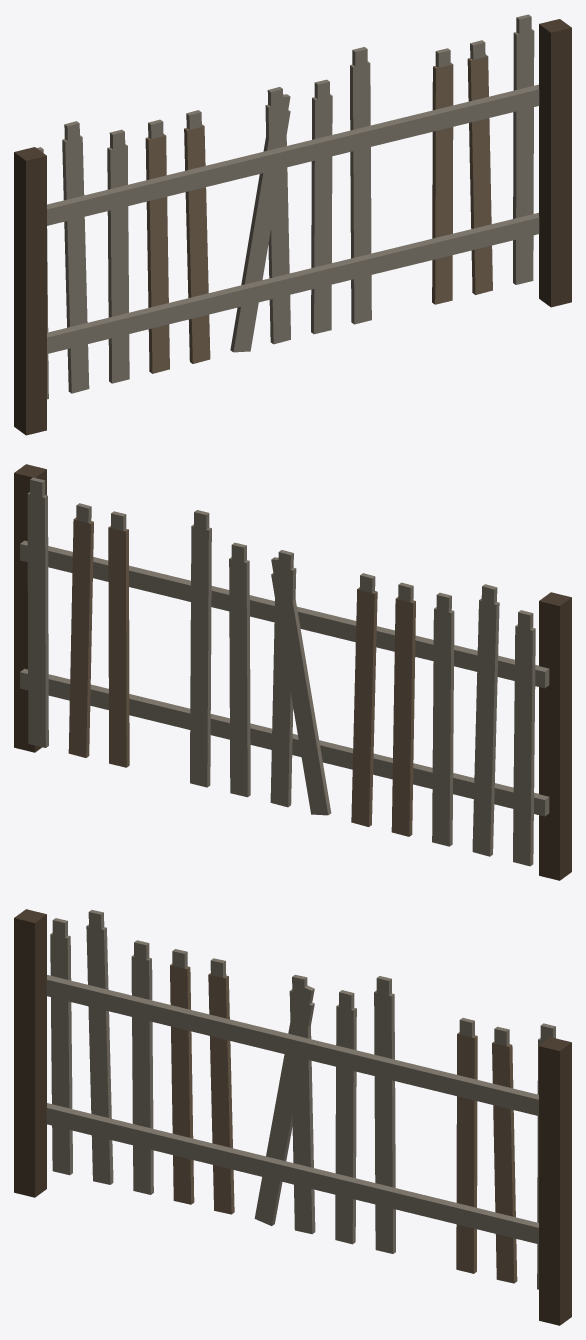
File: забор.glb
3 views of the same model, one above another, from view 1: azimuth 30°, elevation 25°; view 2: azimuth 150°, elevation 25°; view 3: azimuth 330°, elevation 25° (orthographic).
Parts seen in each view (by area): view 1: забор; view 2: забор; view 3: забор.
Part boxes in pixels (x1,y1,x2,y2): забор: (14,14,571,435); забор: (14,464,571,880); забор: (14,909,571,1325).
Bounding box in the file's own units: 3.12 × 1.57 × 0.195.
